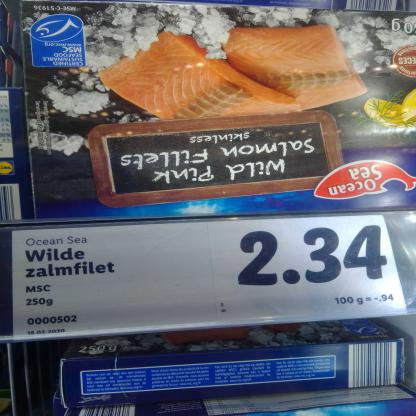prtg: (13, 216, 408, 342)
